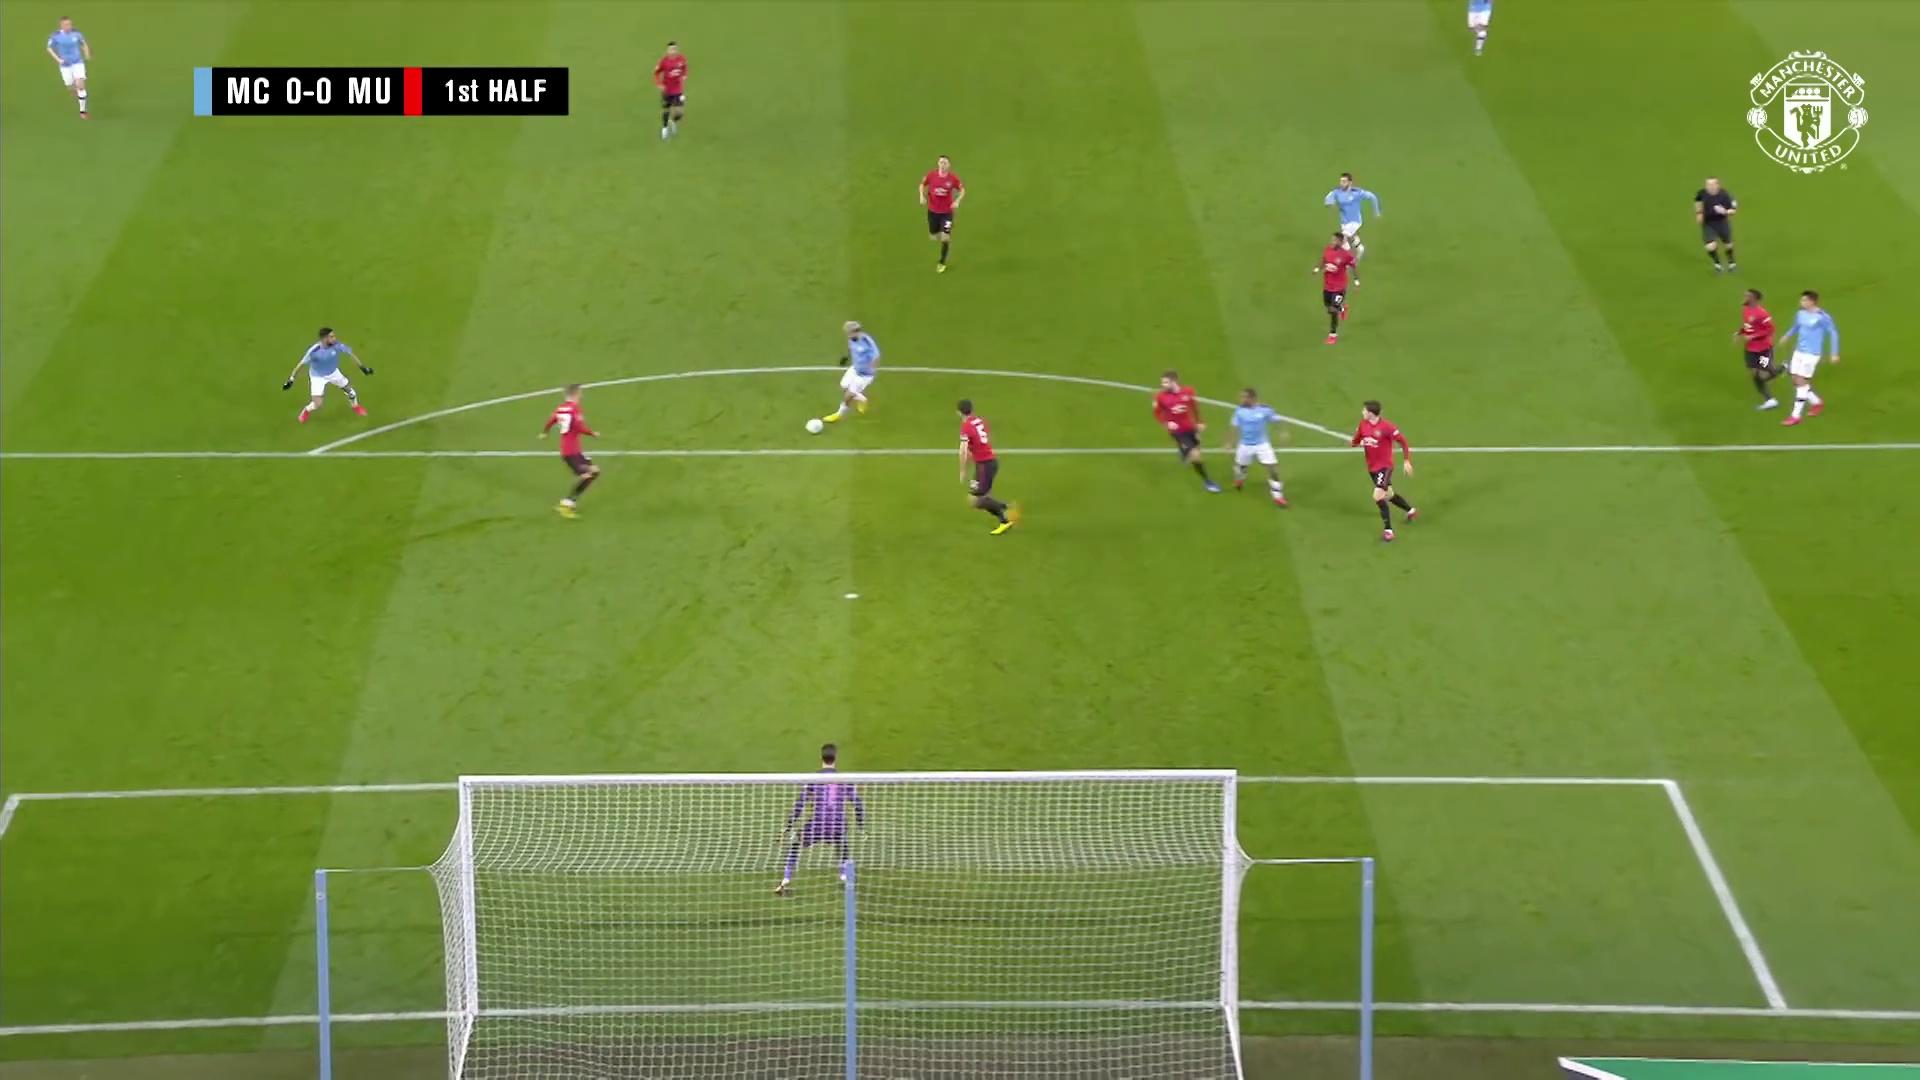ball: (805, 416, 826, 437)
